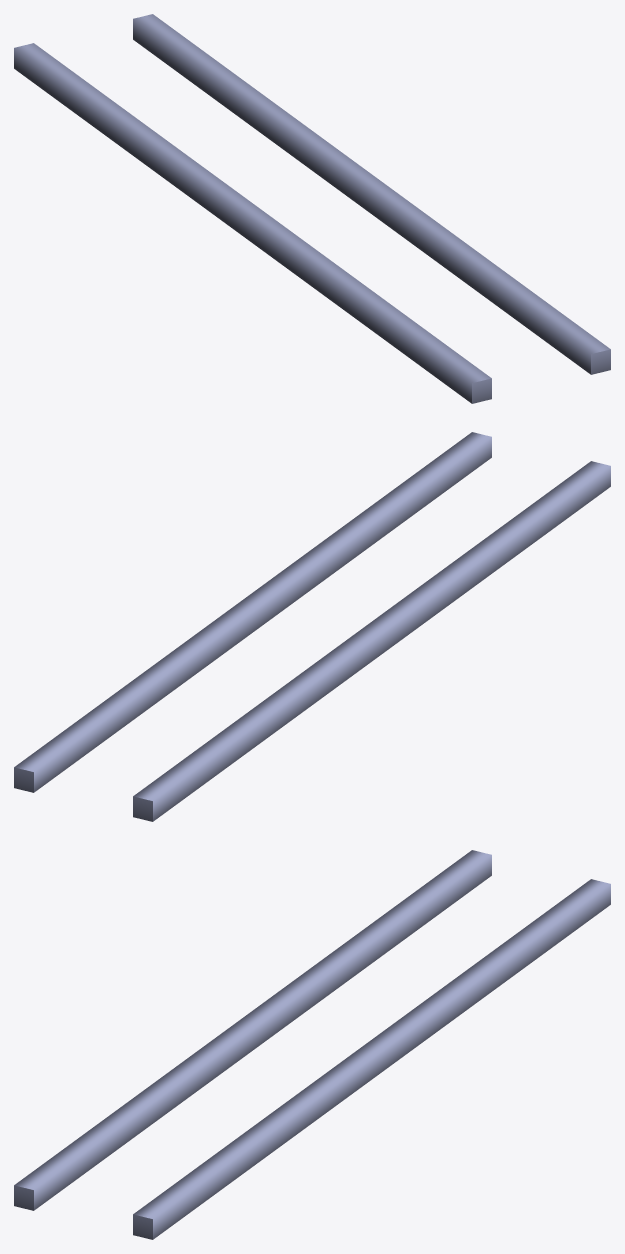
Rendered from railroad-rail-straight.glb.
3 views of the same model, one above another, from view 1: azimuth 30°, elevation 25°; view 2: azimuth 150°, elevation 25°; view 3: azimuth 330°, elevation 25° (orthographic).
Visible parts, largest first — view 1: railroad-rail-straight; view 2: railroad-rail-straight; view 3: railroad-rail-straight.
Boxes of the visible parts, box(x1,y1,x2,y2) form: railroad-rail-straight: box(14, 14, 610, 403); railroad-rail-straight: box(14, 432, 610, 821); railroad-rail-straight: box(14, 850, 610, 1239).
Size of the model in its own units: 0.7 by 0.1 by 4.
